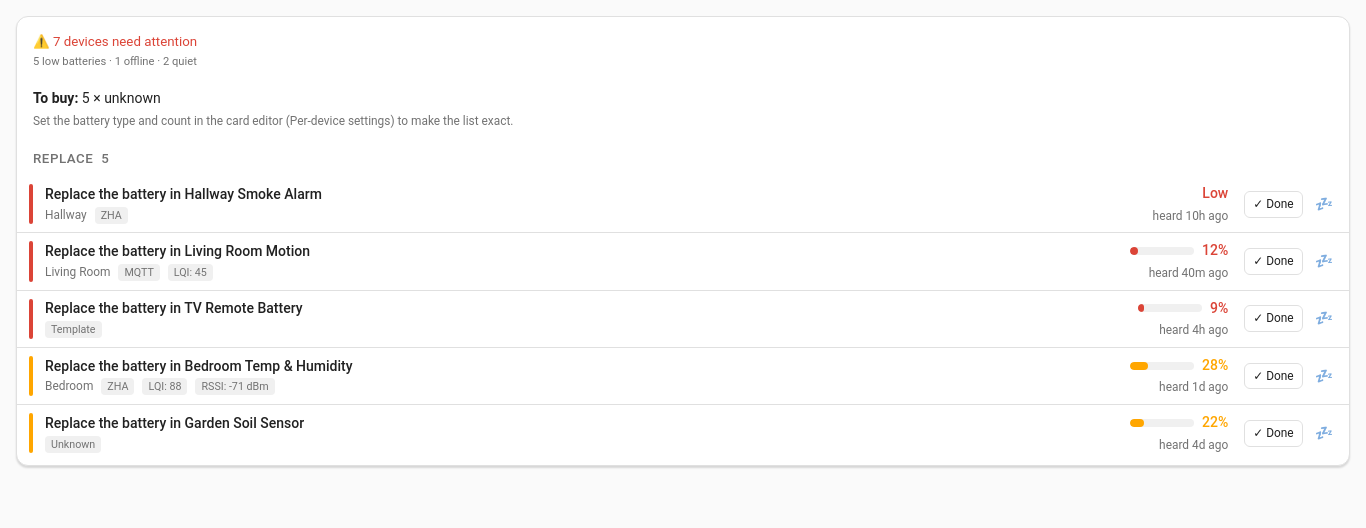
Scenario: App, when a row action fails › offers Undo only once the mark is recorded
Expected: the text "To buy:" is shown, 33,90 -> 78,106
Click the button with aria-label "Mark Living Room Motion done": x=1274, y=262 1244,248 -> 1303,275
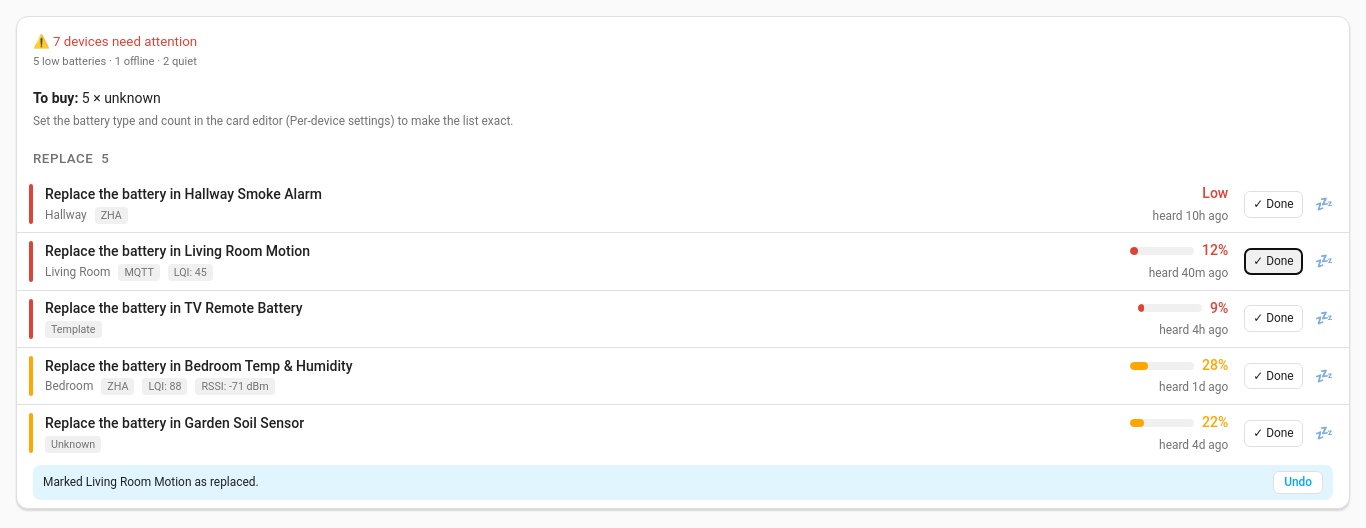
Expected: the text "Marked Living Room Motion as replaced." is shown, 43,474 -> 259,491
Expected: the button "Undo" is shown, 1273,471 -> 1323,494
